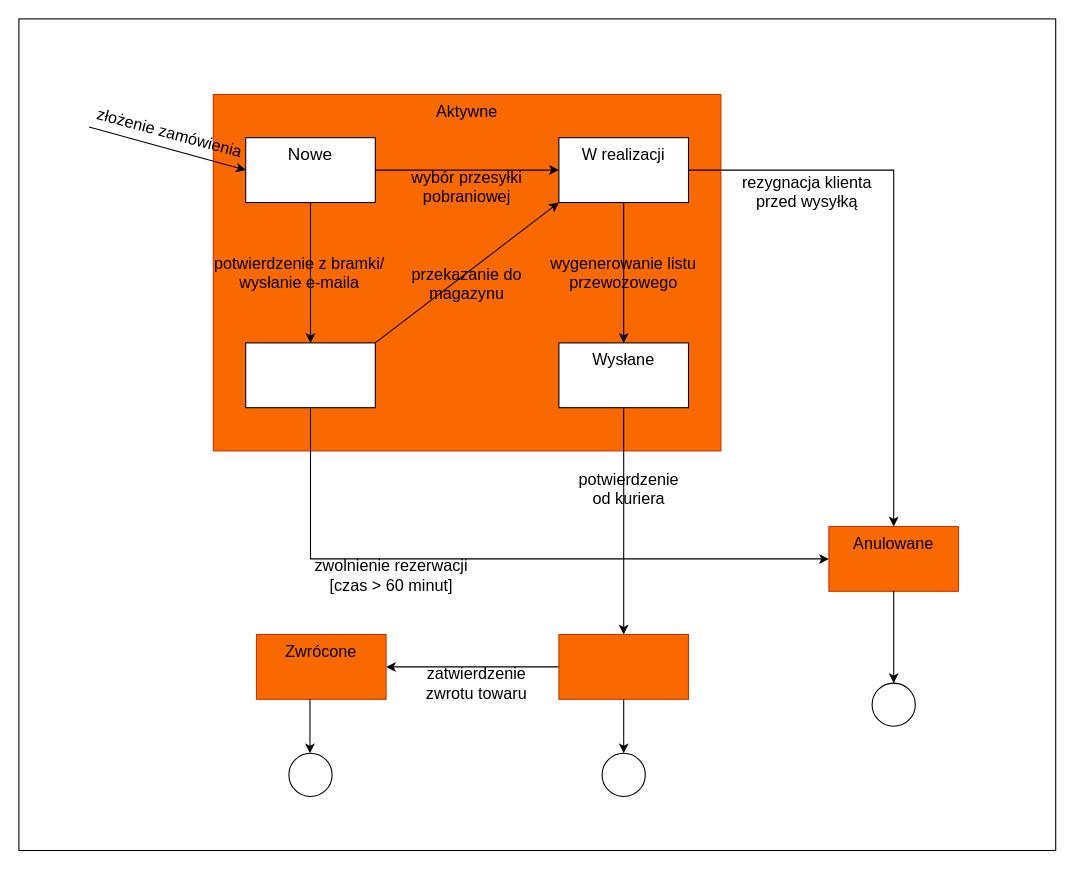
Image size: 1075x869. Some labels were removed from this diagram. Each missing label, with the box of its shape:
Dostarczone: (558, 633, 688, 699)
Opłacone: (245, 342, 375, 408)
Zamówienie: (18, 18, 127, 62)
